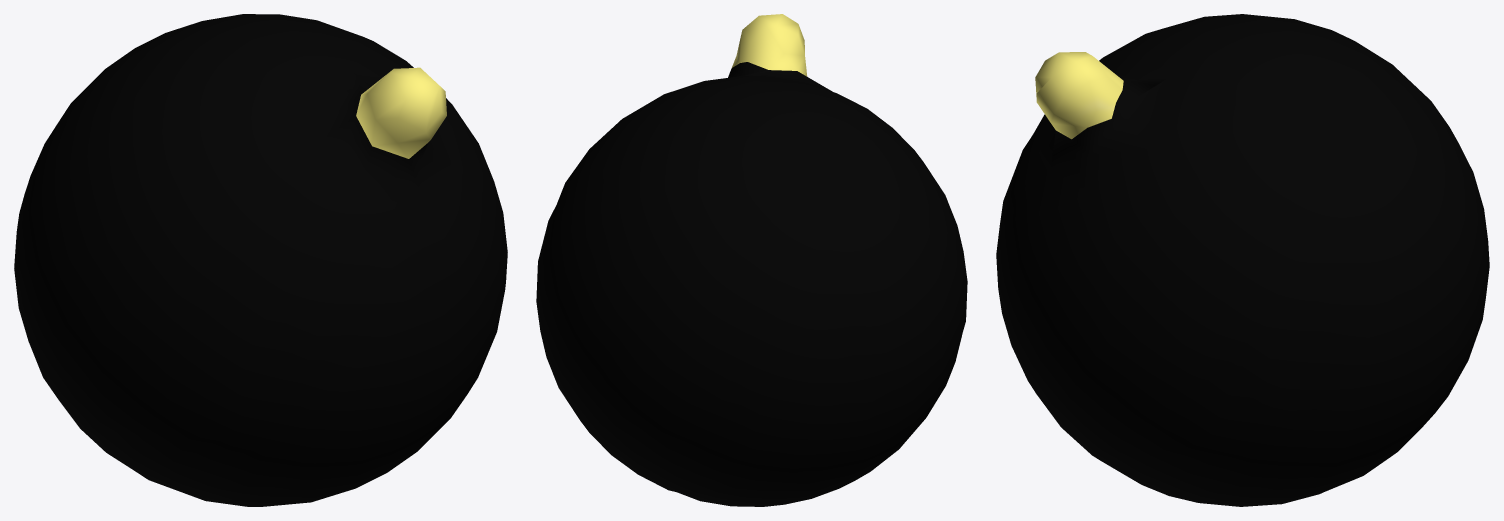
File: Bomb.fbx
3 renders of one model, left to right at view 1: azimuth 30°, elevation 25°; view 2: azimuth 150°, elevation 25°; view 3: azimuth 270°, elevation 25°, orthographic. The views are drawn at different scales.
Visible parts, largest first — view 1: Mball.001; view 2: Mball.001; view 3: Mball.001.
Boxes of the visible parts, <box> form: Mball.001: <box>14,14,507,506</box>; Mball.001: <box>536,14,967,506</box>; Mball.001: <box>996,14,1489,506</box>.
Size of the model in its own units: 54.41 by 55.96 by 54.49.
